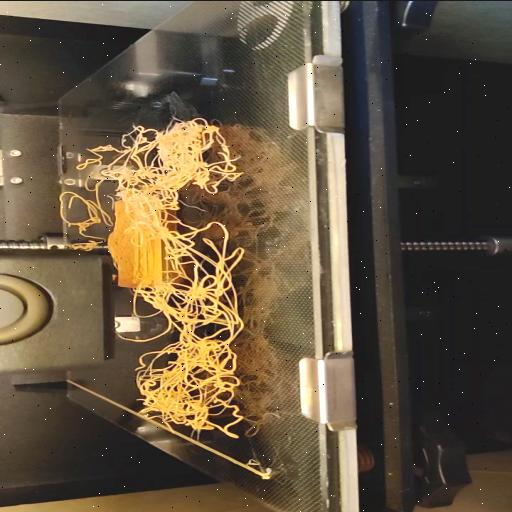spaghetti: (108, 114, 253, 438), (51, 145, 107, 250)
